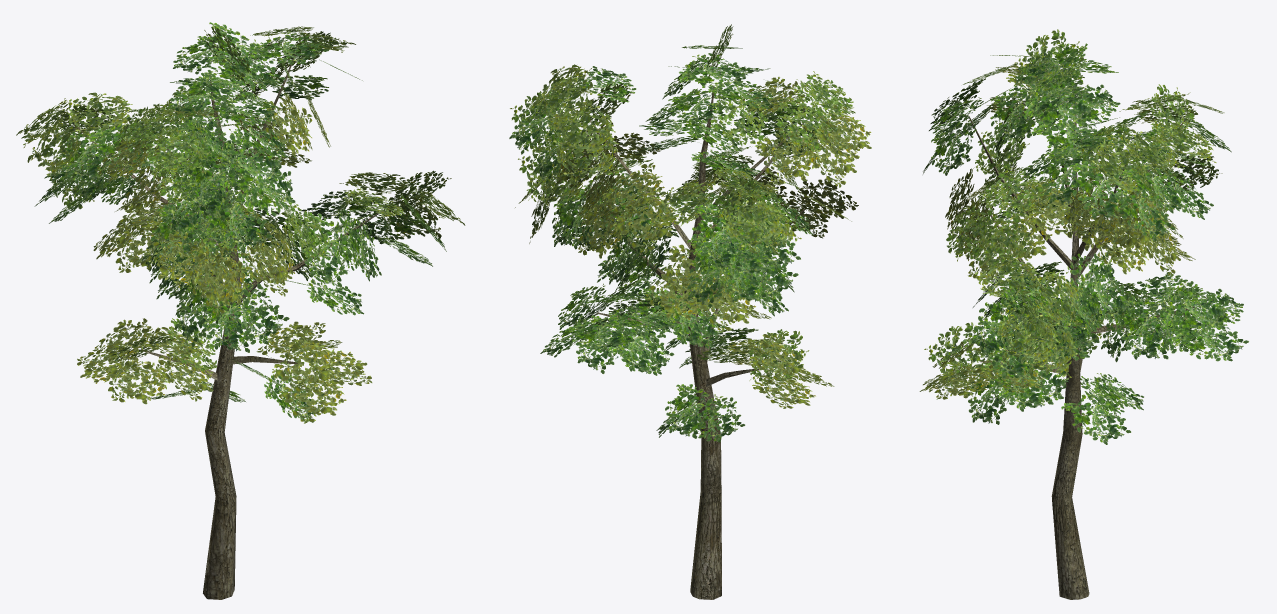
Rendered from tree1b_lod2.gltf.
The picture shows the model from 3 angles, left to right: view 1: azimuth 30°, elevation 25°; view 2: azimuth 150°, elevation 25°; view 3: azimuth 270°, elevation 25°; orthographic projection. The views are drawn at different scales.
Parts seen in each view (by area): view 1: polySurface2292, polySurface814; view 2: polySurface2292, polySurface814; view 3: polySurface2292, polySurface814.
Boxes of the visible parts, x1=… form: polySurface2292: x1=16, y1=22, x2=465, y2=423; polySurface814: x1=74, y1=54, x2=377, y2=599; polySurface2292: x1=509, y1=24, x2=871, y2=442; polySurface814: x1=580, y1=86, x2=805, y2=599; polySurface2292: x1=919, y1=29, x2=1248, y2=444; polySurface814: x1=968, y1=89, x2=1194, y2=599.
Bounding box in the file's own units: 11.27 × 17.33 × 9.55.
2 materials, 2 textured.
